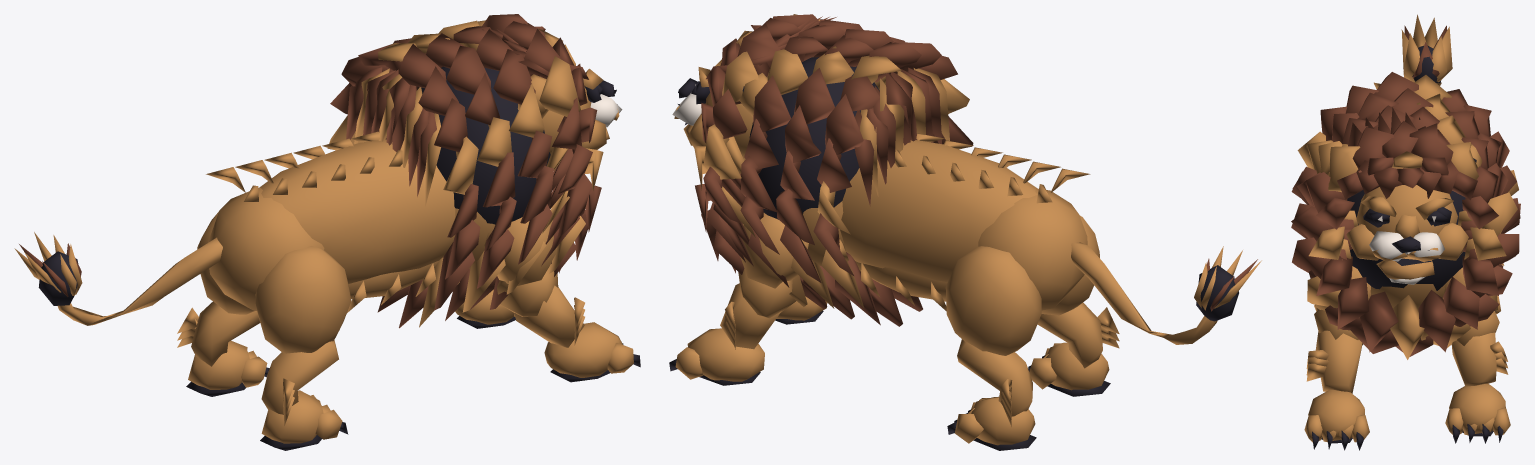
File: amb.lion.lod1.glb
The picture shows the model from 3 angles, left to right: view 1: azimuth 30°, elevation 25°; view 2: azimuth 150°, elevation 25°; view 3: azimuth 270°, elevation 25°; orthographic projection. The views are drawn at different scales.
Parts seen in each view (by area): view 1: head, body, legBR, hip, tail, pawFR, foreArmR, pawBR, pawBL, shinR, shinL, legFR (+2 smaller); view 2: head, body, legBL, hip, tail, pawFL, pawBL, pawBR, foreArmL, shinL, shinR, legFL (+2 smaller); view 3: head, pawFR, pawFL, foreArmR, tail, foreArmL, jaw, body.
Part boxes in pixels (x1,y1,x2,y2): head: (327,14,622,328); body: (206,131,495,312); legBR: (255,246,351,353); hip: (208,187,324,310); tail: (14,232,222,325); pawFR: (544,297,640,382); foreArmR: (497,264,584,347); pawBR: (260,378,348,450); pawBL: (177,307,269,396); shinR: (261,340,338,414); shinL: (191,301,260,366); legFR: (484,217,556,285); head: (672,14,973,326); body: (803,133,1090,311); legBL: (945,246,1041,355); hip: (978,188,1087,310); tail: (1071,242,1261,344); pawFL: (669,301,764,385); pawBL: (947,379,1036,450); pawBR: (1028,307,1119,396); foreArmL: (720,268,796,349); shinL: (957,339,1032,416); shinR: (1037,302,1102,368); legFL: (740,213,808,288); head: (1291,72,1520,359); pawFR: (1304,350,1369,450); pawFL: (1445,341,1510,443); foreArmR: (1314,309,1363,393); tail: (1401,14,1452,83); foreArmL: (1451,311,1499,386); jaw: (1376,256,1434,284); body: (1370,82,1444,308).
Size of the model in its own units: 2.35 by 1.31 by 0.8923.
